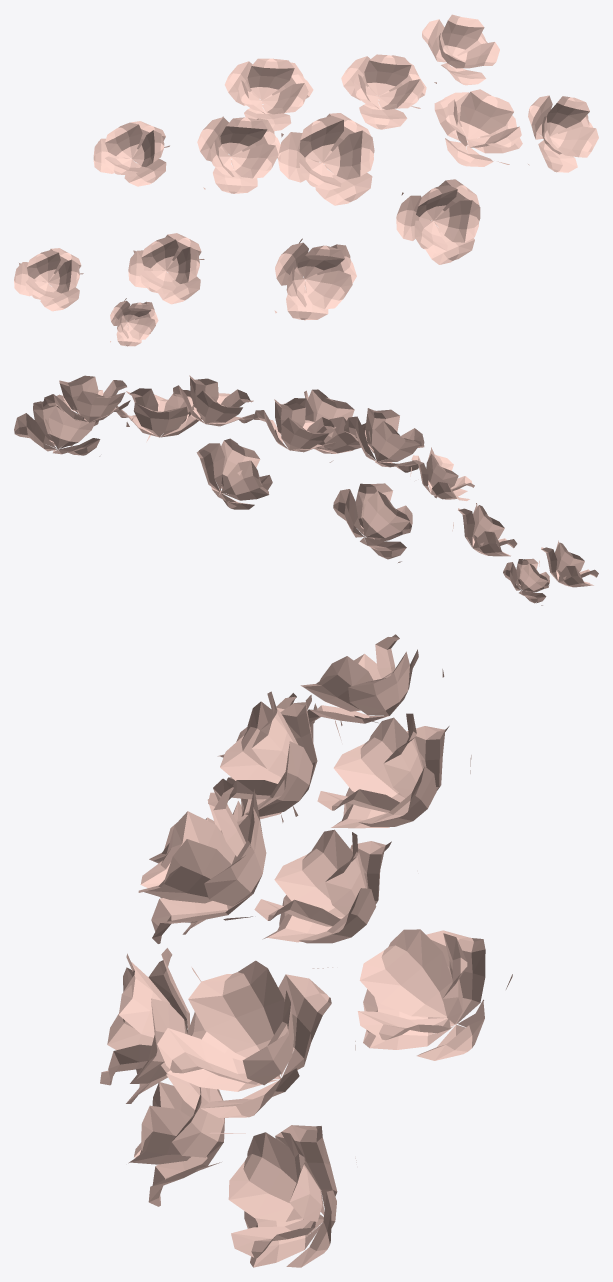
File: 22_openskp_material_66.003.obj
3 renders of one model, top to bottom at view 1: azimuth 30°, elevation 25°; view 2: azimuth 150°, elevation 25°; view 3: azimuth 270°, elevation 25°, orthographic. The views are drawn at different scales.
Parts seen in each view (by area): view 1: 22_openskp_material_66.003; view 2: 22_openskp_material_66.003; view 3: 22_openskp_material_66.003.
Part boxes in pixels (x1,y1,x2,y2): 22_openskp_material_66.003: [14, 14, 598, 346]; 22_openskp_material_66.003: [14, 375, 598, 605]; 22_openskp_material_66.003: [100, 634, 512, 1267].
Bounding box in the file's own units: 13.82 × 4.65 × 4.33.
